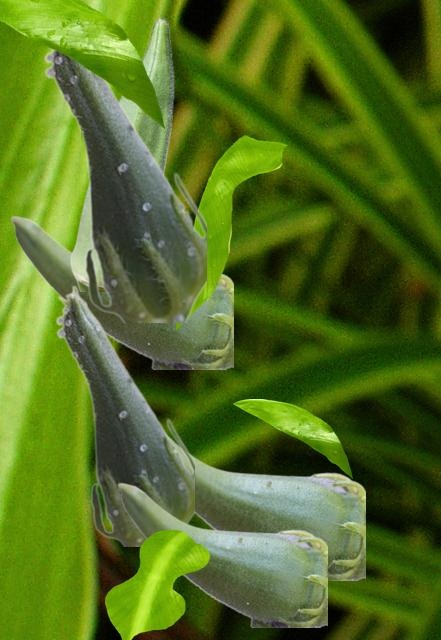okra: (43, 48, 205, 321), (55, 285, 193, 545), (10, 215, 232, 368), (117, 482, 326, 626), (70, 17, 173, 290), (170, 437, 364, 579)
